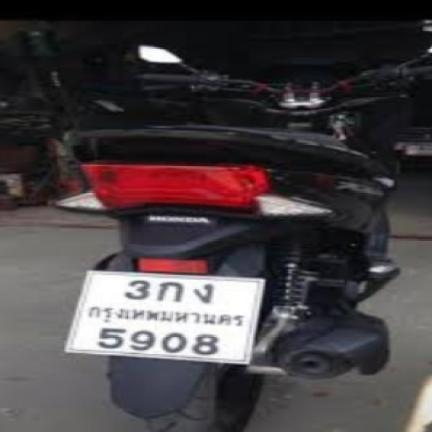0: (158, 330, 191, 356)
3: (121, 277, 150, 301)
5: (87, 325, 131, 351)
8: (188, 331, 227, 356)
9: (125, 327, 161, 353)
A01: (157, 281, 186, 303)
A07: (190, 281, 218, 305)
BKK: (78, 303, 249, 334)
